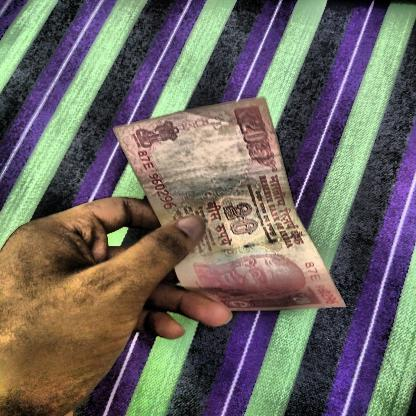Rs20: (220, 198, 266, 241), (232, 103, 273, 147)
